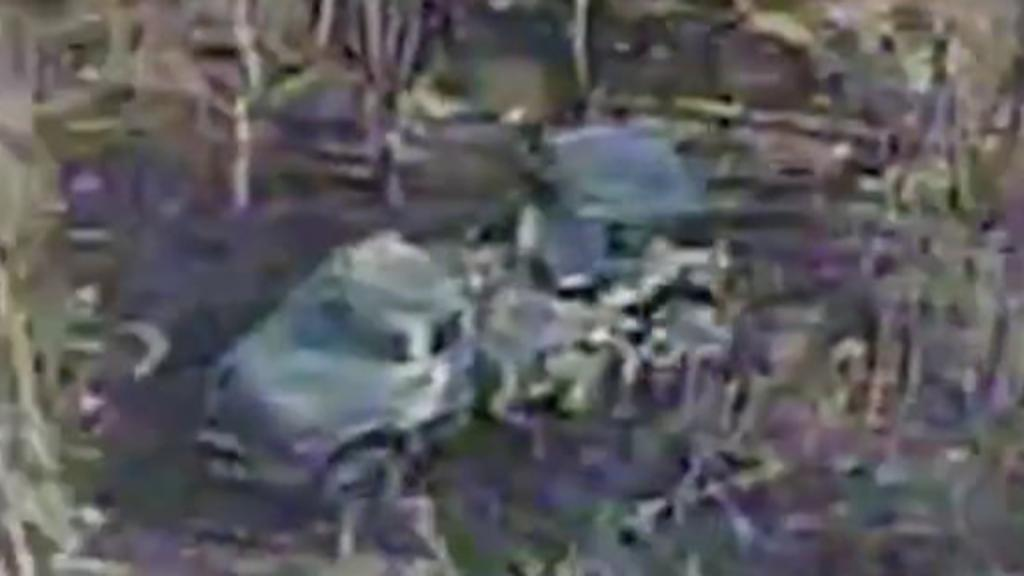MLRS: (204, 121, 746, 502)
